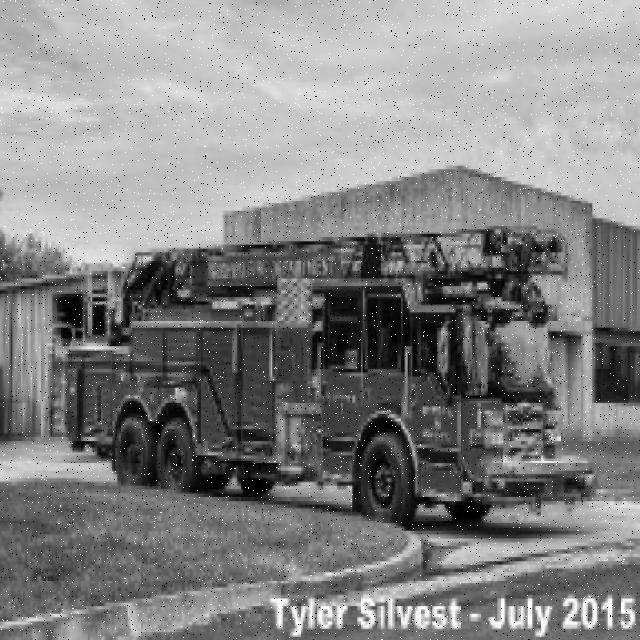Fire Truck: (42, 227, 599, 528)
